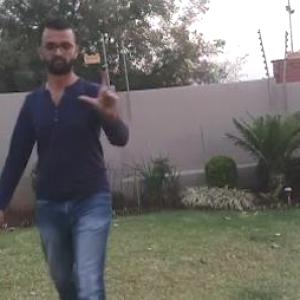land_hand: (76, 66, 128, 112)
